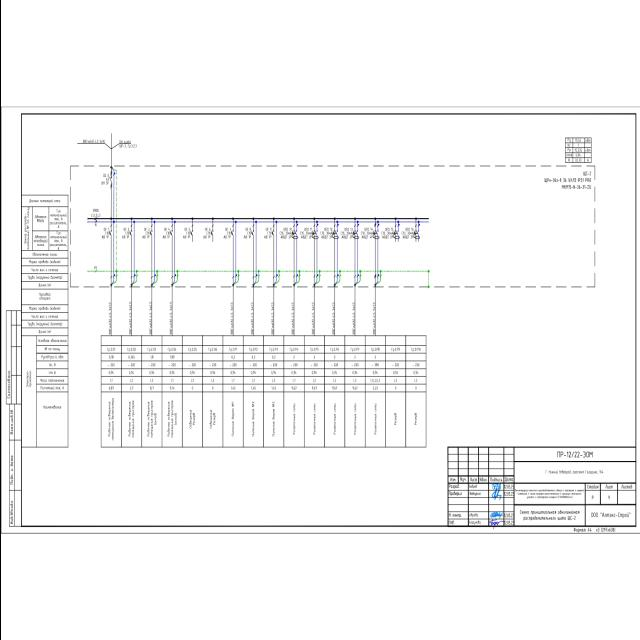-: (543, 177, 591, 190), (298, 230, 312, 240), (319, 230, 332, 240), (380, 230, 393, 240), (400, 230, 413, 240), (339, 230, 352, 240), (360, 230, 372, 240), (278, 231, 291, 240), (100, 230, 108, 240), (161, 230, 169, 240), (262, 230, 270, 240), (222, 230, 230, 240), (120, 231, 128, 240), (202, 231, 210, 240), (182, 231, 190, 240), (242, 230, 250, 239), (100, 177, 108, 186), (141, 231, 149, 240)
QF: (128, 230, 132, 238), (148, 228, 152, 236), (168, 229, 172, 237), (188, 229, 192, 237), (209, 230, 213, 238), (229, 229, 233, 237), (250, 228, 254, 236), (270, 228, 274, 236), (108, 229, 111, 237)
QFD: (310, 229, 318, 239), (371, 230, 379, 240), (331, 230, 339, 240), (290, 230, 298, 240), (412, 230, 419, 240), (392, 230, 399, 240), (351, 230, 358, 240)
QS: (108, 175, 112, 182)
